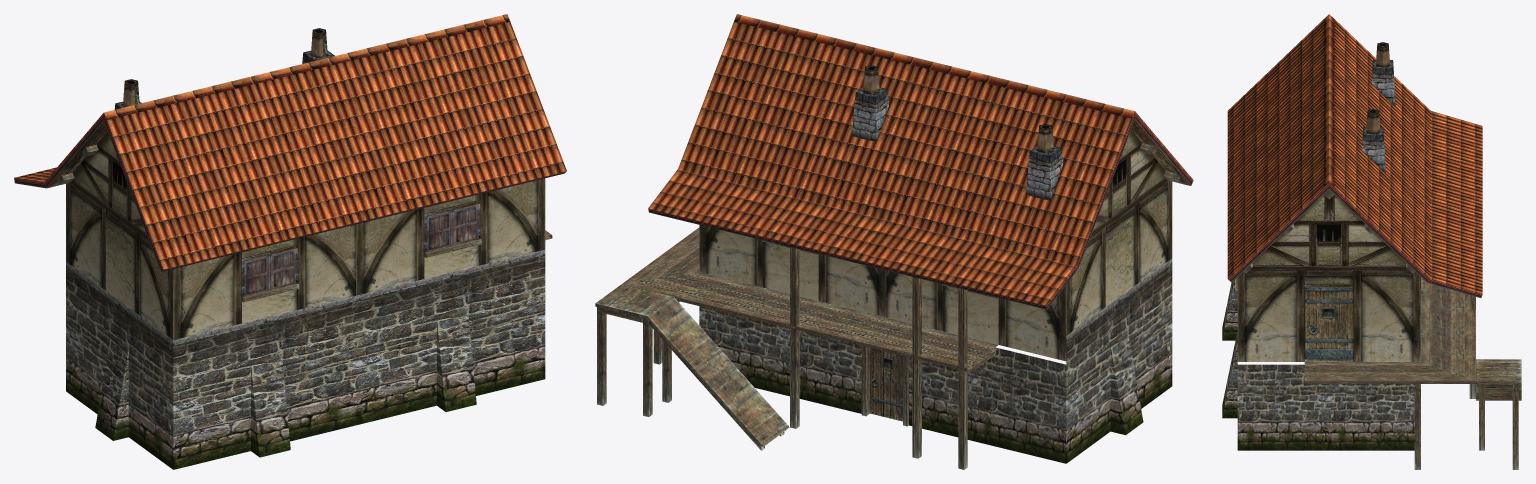
The model's file is mhouse20e.glb.
3 renders of one model, left to right at view 1: azimuth 30°, elevation 25°; view 2: azimuth 150°, elevation 25°; view 3: azimuth 270°, elevation 25°, orthographic. The views are drawn at different scales.
Visible parts, largest first — view 1: mhouse20e-col; view 2: mhouse20e-col; view 3: mhouse20e-col.
Boxes of the visible parts, box(x1,y1,x2,y2) form: mhouse20e-col: box(14, 14, 566, 469); mhouse20e-col: box(595, 14, 1193, 469); mhouse20e-col: box(1222, 14, 1521, 469).
Bounding box in the file's own units: 14.01 × 10.24 × 9.8.
14 materials, 14 textured.
